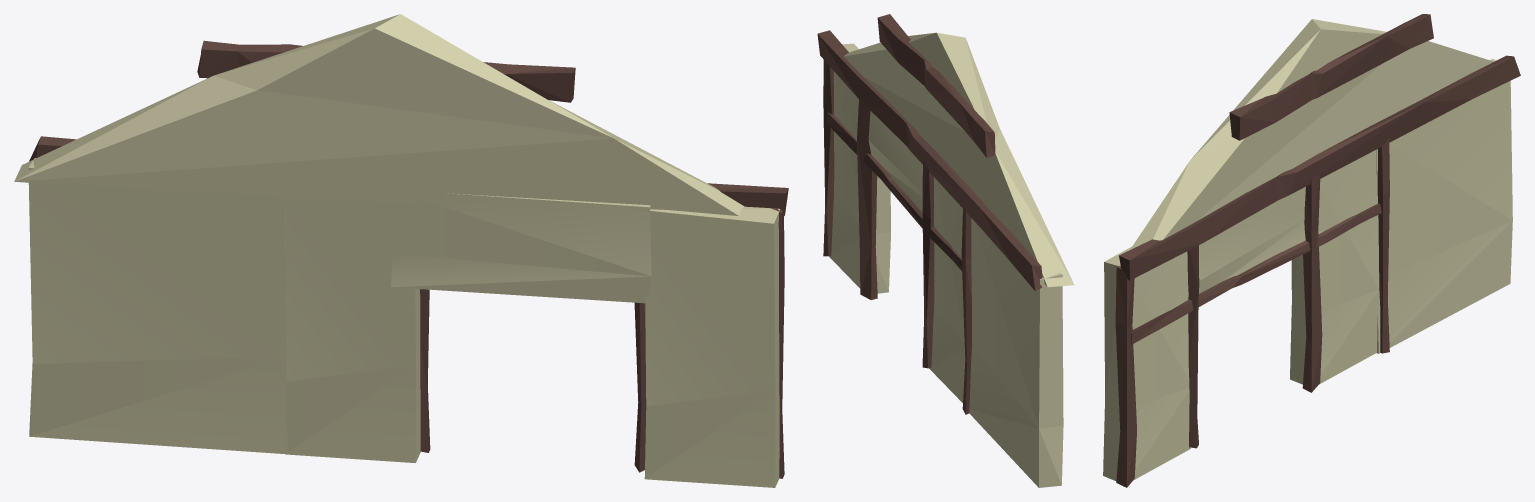
File: SideWall.fbx
The picture shows the model from 3 angles, left to right: view 1: azimuth 30°, elevation 25°; view 2: azimuth 150°, elevation 25°; view 3: azimuth 270°, elevation 25°; orthographic projection. The views are drawn at different scales.
Visible parts, largest first — view 1: SideWall_Merged; view 2: SideWall_Merged; view 3: SideWall_Merged.
Part boxes in pixels (x1,y1,x2,y2): SideWall_Merged: [14, 14, 788, 487]; SideWall_Merged: [817, 14, 1074, 487]; SideWall_Merged: [1103, 14, 1520, 487].
Bounding box in the file's own units: 621 × 471 × 503.
